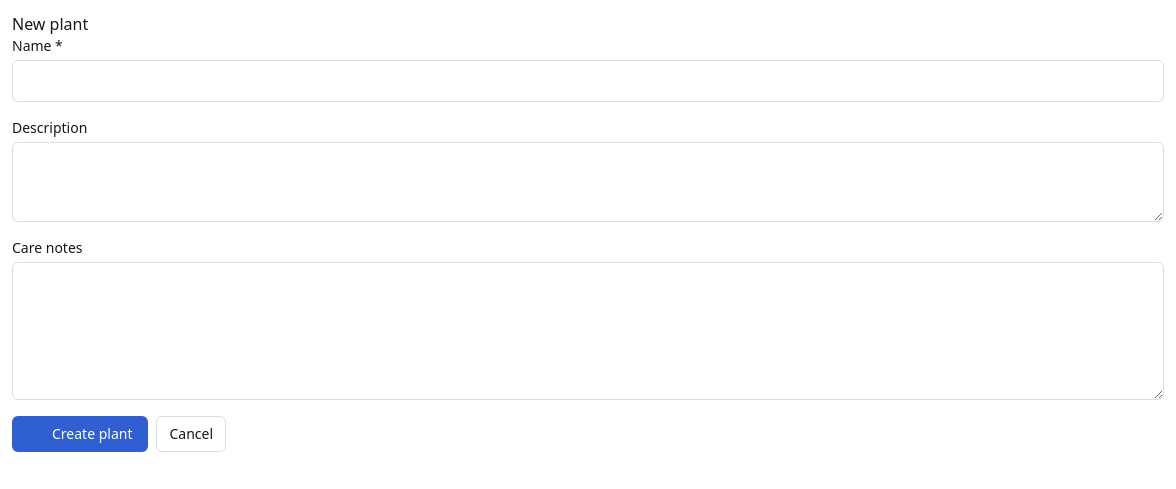
Scenario: maps a 422 name conflict onto the name field
Type "X" into the field labelled "Name *". click: (588, 81)
box: [12,60,1164,102]
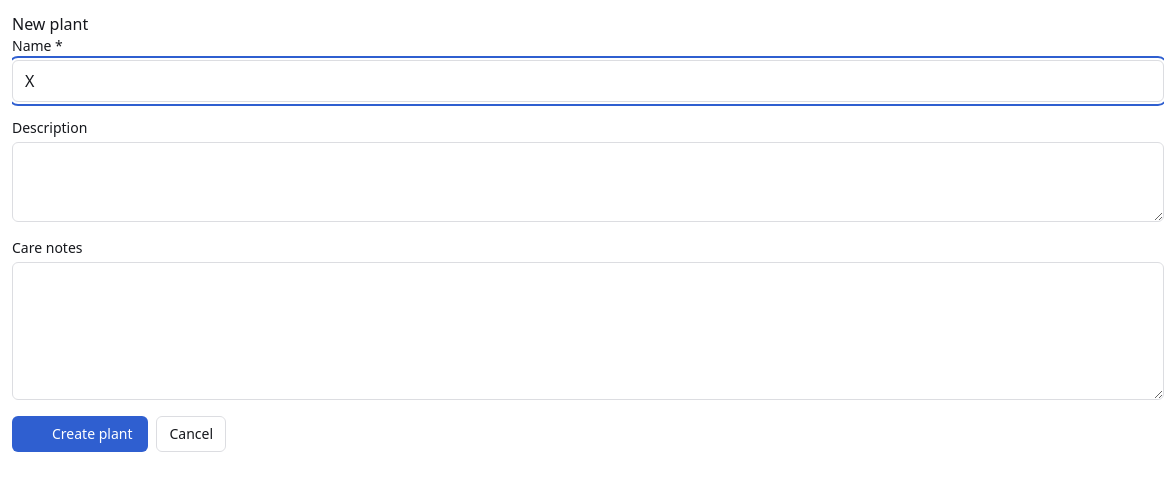
Click the button "Create plant". click: (80, 434)
box: [12,416,148,452]
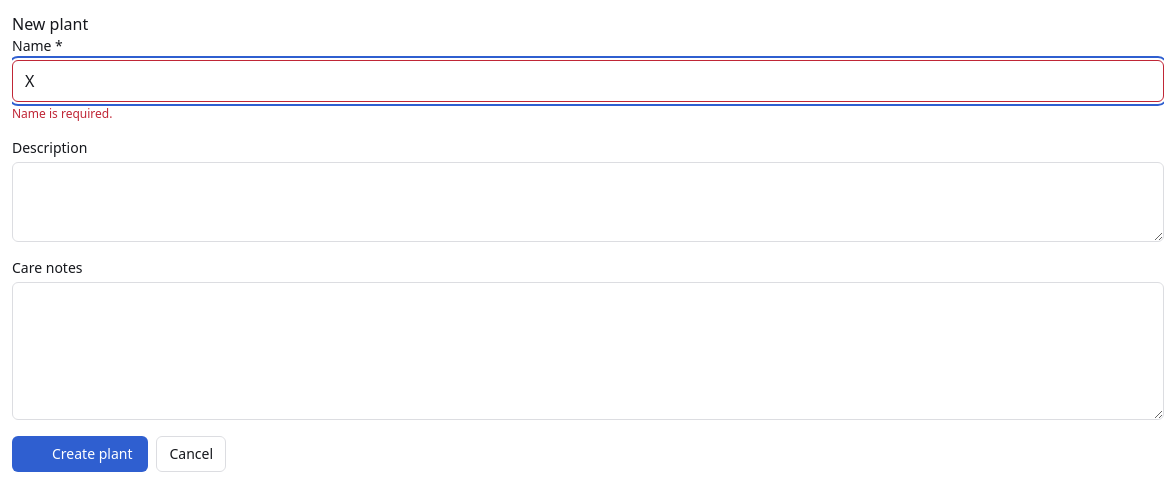
expect the text "Name is required." is shown: met, box [12,105,112,122]
